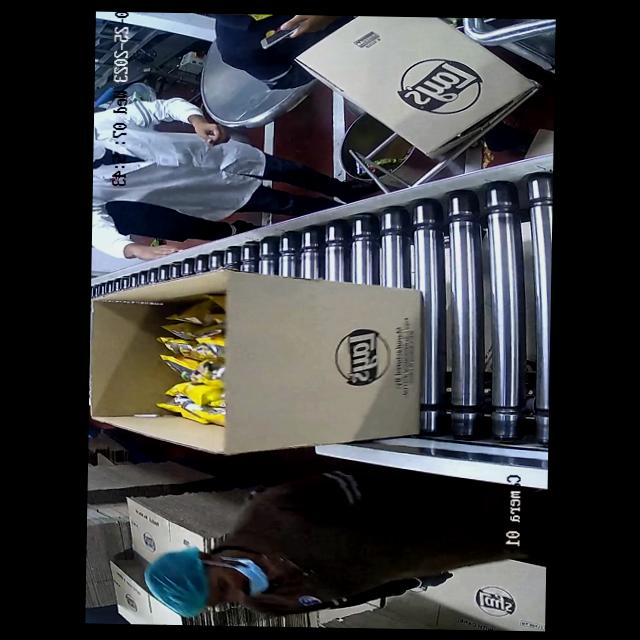salted: (150, 284, 233, 438)
